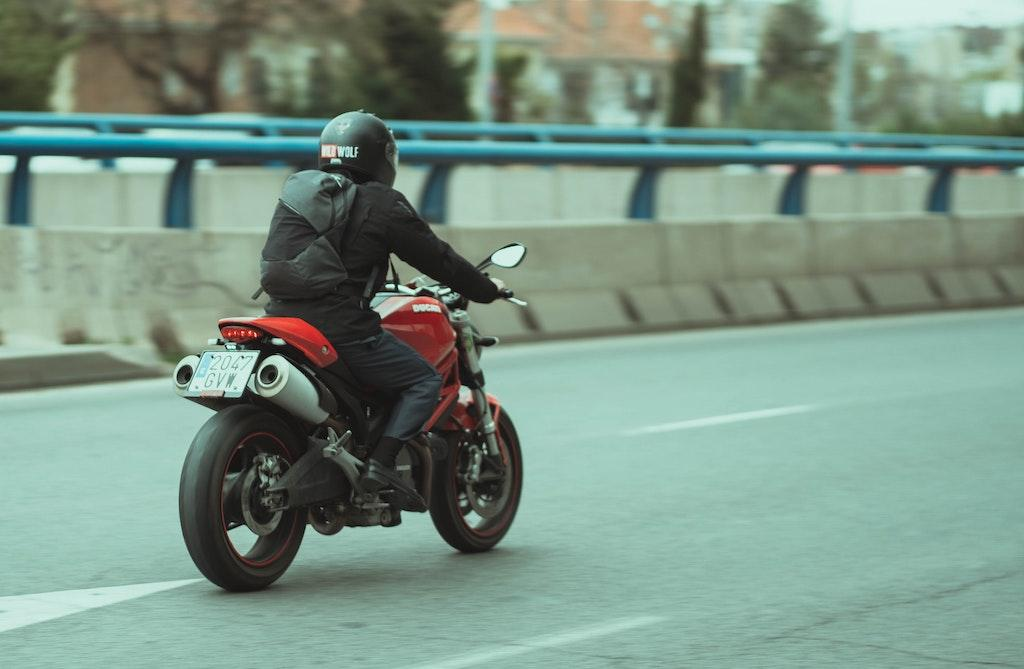helmet: (317, 108, 400, 199)
